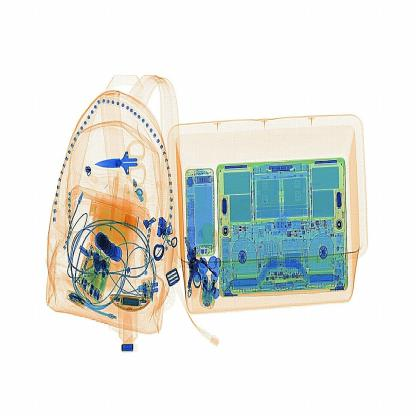gun: (92, 138, 144, 181)
